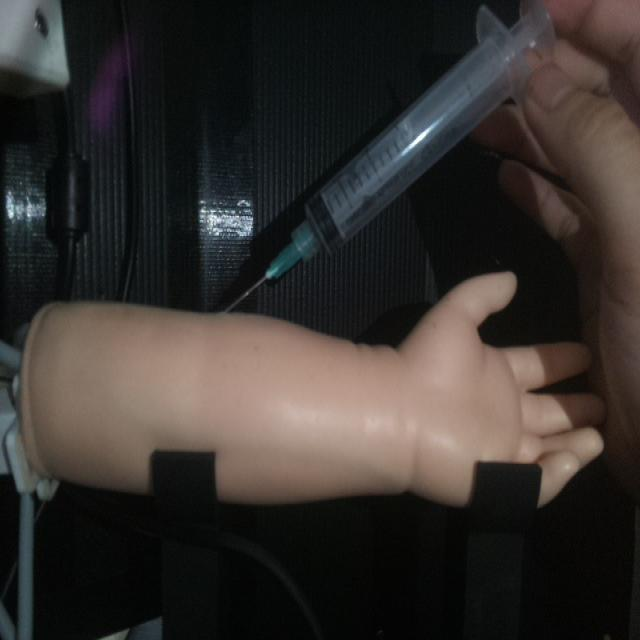Outside: (218, 0, 558, 313)
